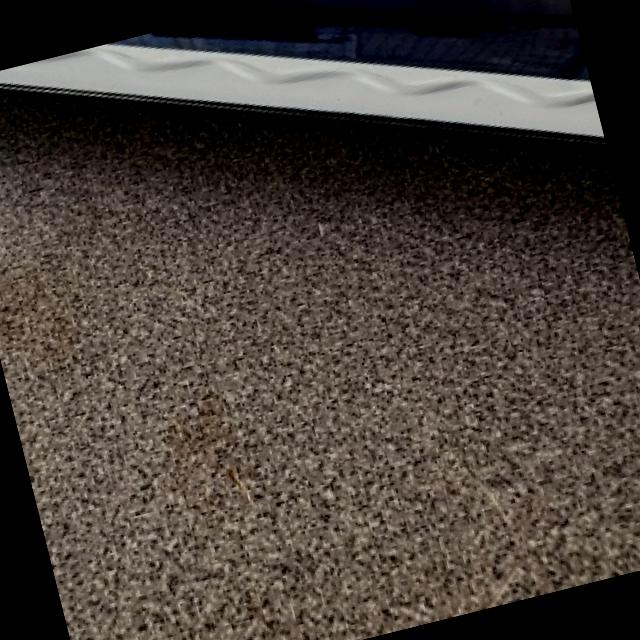healthy: (0, 89, 620, 349), (0, 42, 602, 138)
